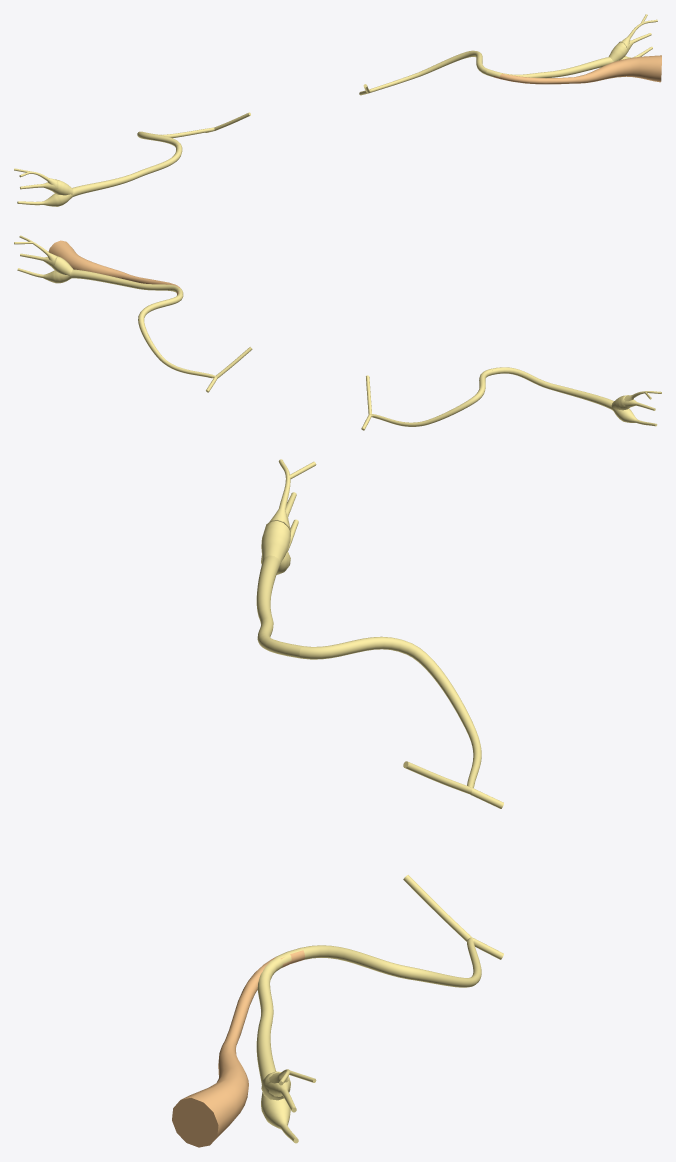
File: vestibular-context-mobile.glb
3 views of the same model, one above another, from view 1: azimuth 30°, elevation 25°; view 2: azimuth 150°, elevation 25°; view 3: azimuth 270°, elevation 25° (orthographic). The views are drawn at different scales.
Parts seen in each view (by area): view 1: za.cochlear-nerve-l, za.vestibular-nerve-r, za.vestibular-nerve-l, nerve.cn08.source-group.l, nerve.cn08.source-group.r; view 2: za.vestibular-nerve-l, za.vestibular-nerve-r, za.cochlear-nerve-l, nerve.cn08.source-group.l, nerve.cn08.source-group.r; view 3: za.cochlear-nerve-l, nerve.cn08.source-group.r, za.vestibular-nerve-r, za.vestibular-nerve-l, nerve.cn08.source-group.l.
Part boxes in pixels (x1,y1,x2,y2): za.cochlear-nerve-l: [493, 55, 661, 84]; za.vestibular-nerve-r: [14, 145, 182, 206]; za.vestibular-nerve-l: [486, 14, 657, 78]; nerve.cn08.source-group.l: [359, 50, 488, 95]; nerve.cn08.source-group.r: [137, 112, 250, 147]; za.vestibular-nerve-l: [14, 235, 183, 295]; za.vestibular-nerve-r: [491, 367, 661, 426]; za.cochlear-nerve-l: [48, 240, 179, 294]; nerve.cn08.source-group.l: [138, 293, 252, 392]; nerve.cn08.source-group.r: [361, 369, 492, 430]; za.cochlear-nerve-l: [172, 950, 304, 1147]; nerve.cn08.source-group.r: [299, 636, 503, 808]; za.vestibular-nerve-r: [256, 459, 316, 658]; za.vestibular-nerve-l: [256, 947, 316, 1143]; nerve.cn08.source-group.l: [301, 875, 503, 987].
Size of the model in its own units: 0.0811 by 0.00693 by 0.0183.
